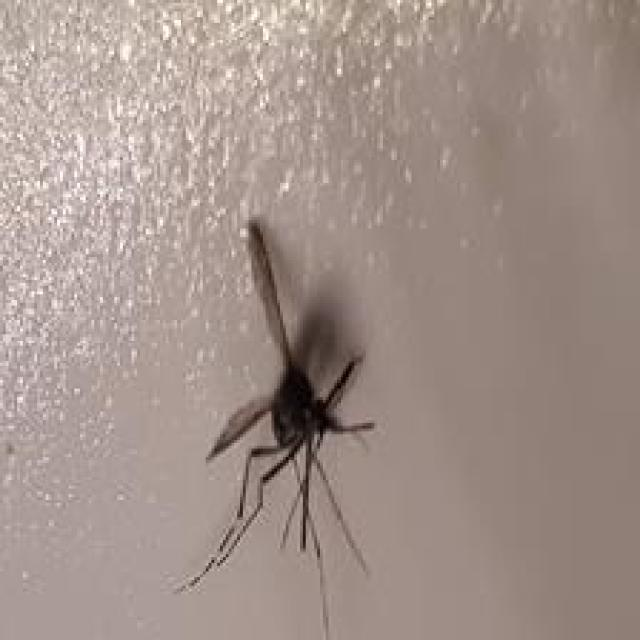Aedes albopictus: (170, 214, 379, 640)
